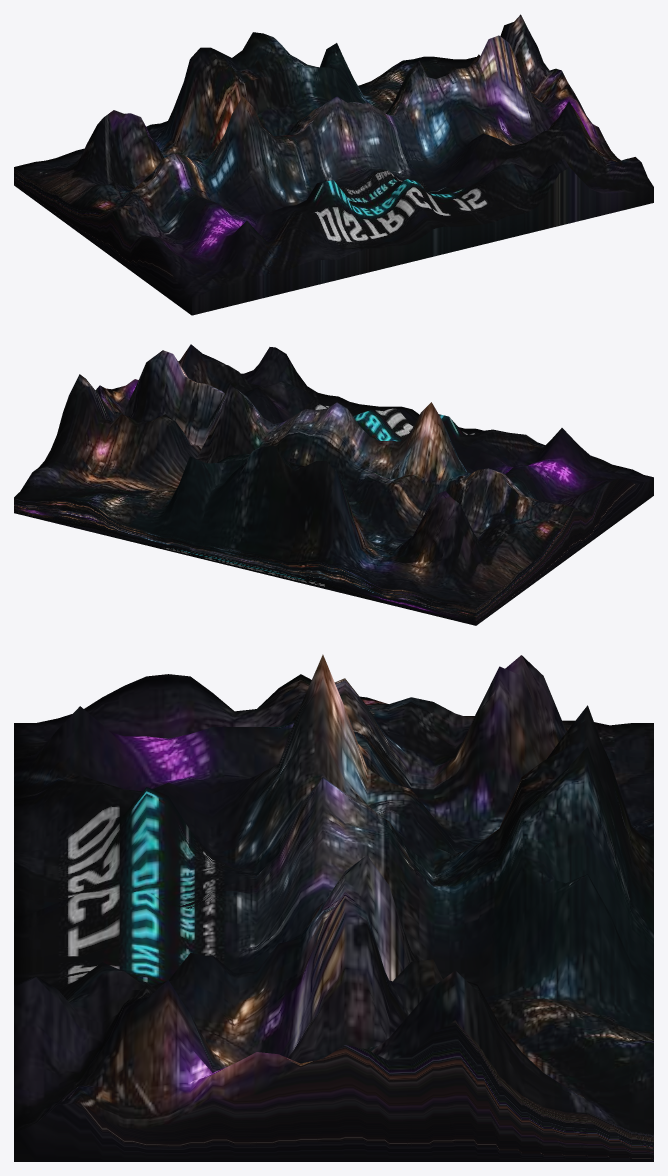
The model's file is DISTRICT_15_Underground.glb.
3 renders of one model, top to bottom at view 1: azimuth 30°, elevation 25°; view 2: azimuth 150°, elevation 25°; view 3: azimuth 270°, elevation 25°, orthographic. The views are drawn at different scales.
Visible parts, largest first — view 1: DISTRICT_15_Underground; view 2: DISTRICT_15_Underground; view 3: DISTRICT_15_Underground.
Boxes of the visible parts, x1,y1,x2,y2 form: DISTRICT_15_Underground: (14, 14, 653, 315); DISTRICT_15_Underground: (14, 344, 653, 625); DISTRICT_15_Underground: (14, 654, 653, 1161).
Size of the model in its own units: 2 by 0.51 by 1.33.
1 material, 1 textured.
